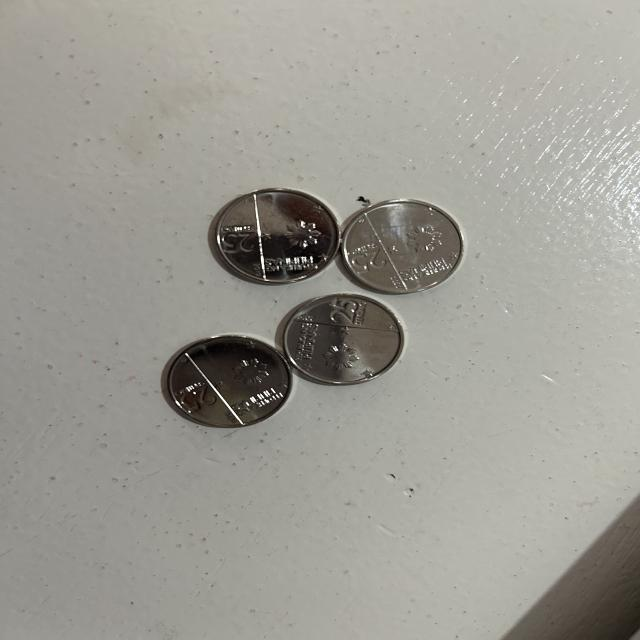25Cent_New_Front: (169, 372, 216, 418), (212, 219, 264, 259), (340, 240, 389, 273), (326, 297, 374, 327)
